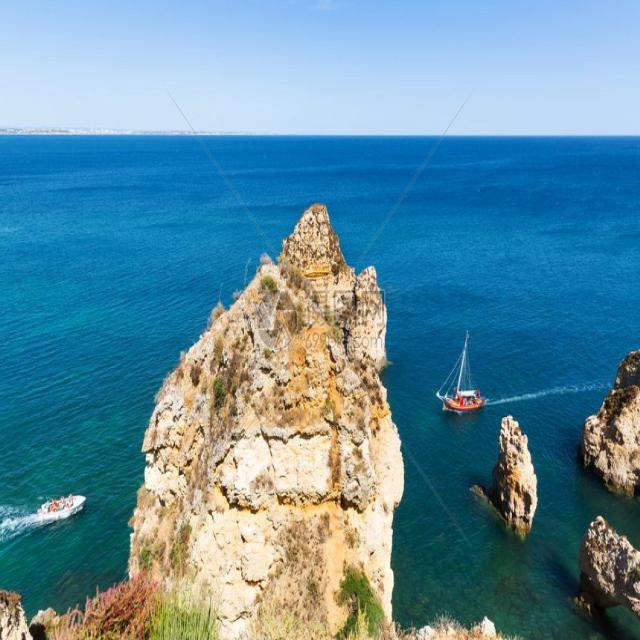passenger ship: (36, 481, 100, 538)
reef: (458, 409, 558, 548)
sailboat: (438, 322, 494, 418)
